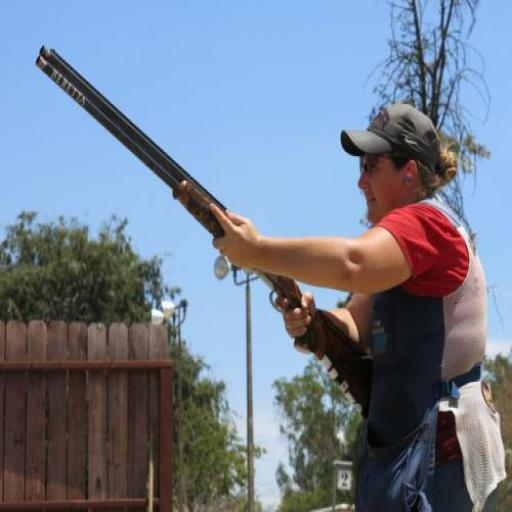shooting: (207, 100, 503, 511)
